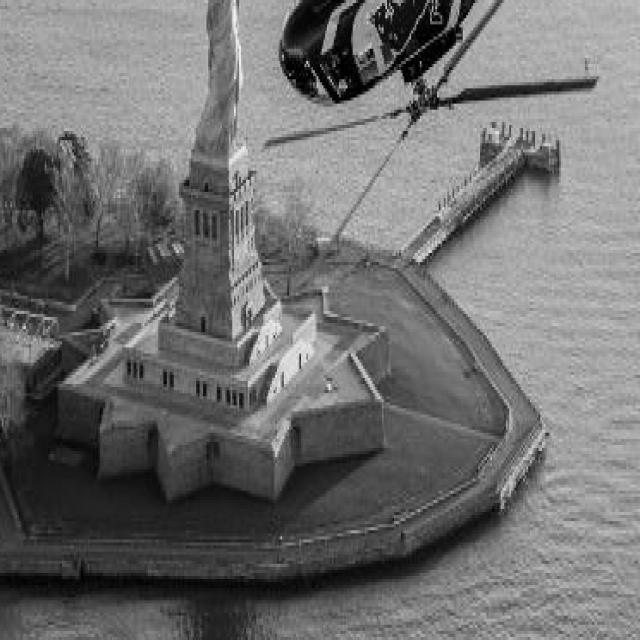helicopter: (269, 1, 640, 141)
